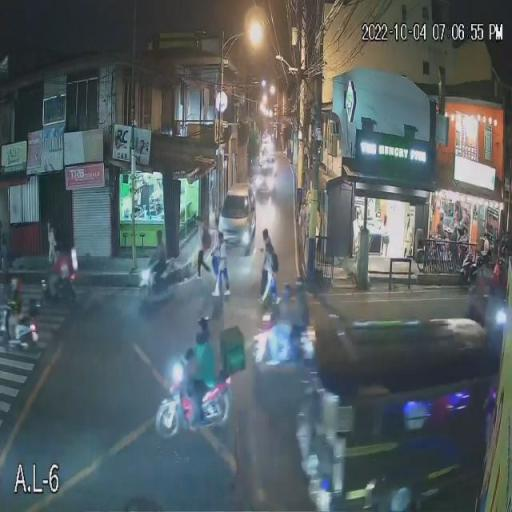helmet: (191, 318, 213, 343), (5, 273, 25, 297), (276, 280, 291, 296), (292, 282, 308, 295)
motorcycle: (146, 365, 236, 434), (254, 322, 316, 368), (0, 317, 50, 349), (136, 269, 180, 303), (40, 278, 86, 308)
rider: (180, 310, 221, 434), (276, 273, 294, 363), (147, 231, 169, 303), (50, 248, 71, 308), (9, 276, 22, 344), (294, 280, 304, 362)
